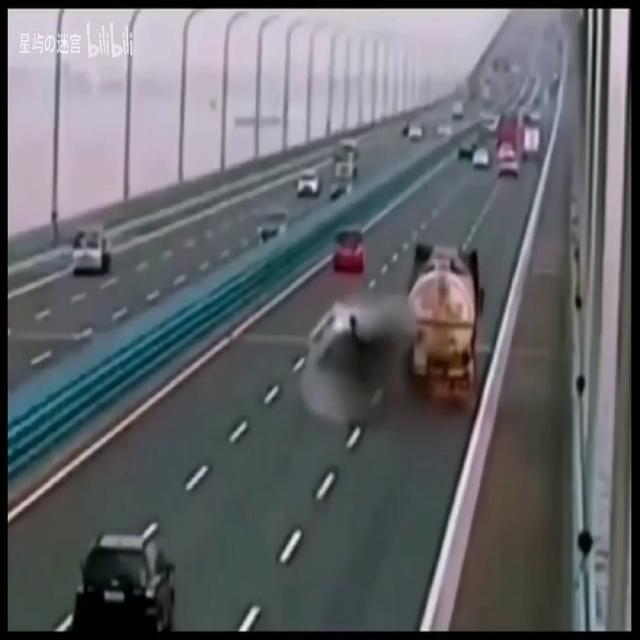accident: (306, 247, 479, 419)
non-accident: (254, 204, 366, 276), (458, 110, 544, 178), (292, 137, 358, 203), (399, 116, 451, 144), (458, 135, 492, 169)
